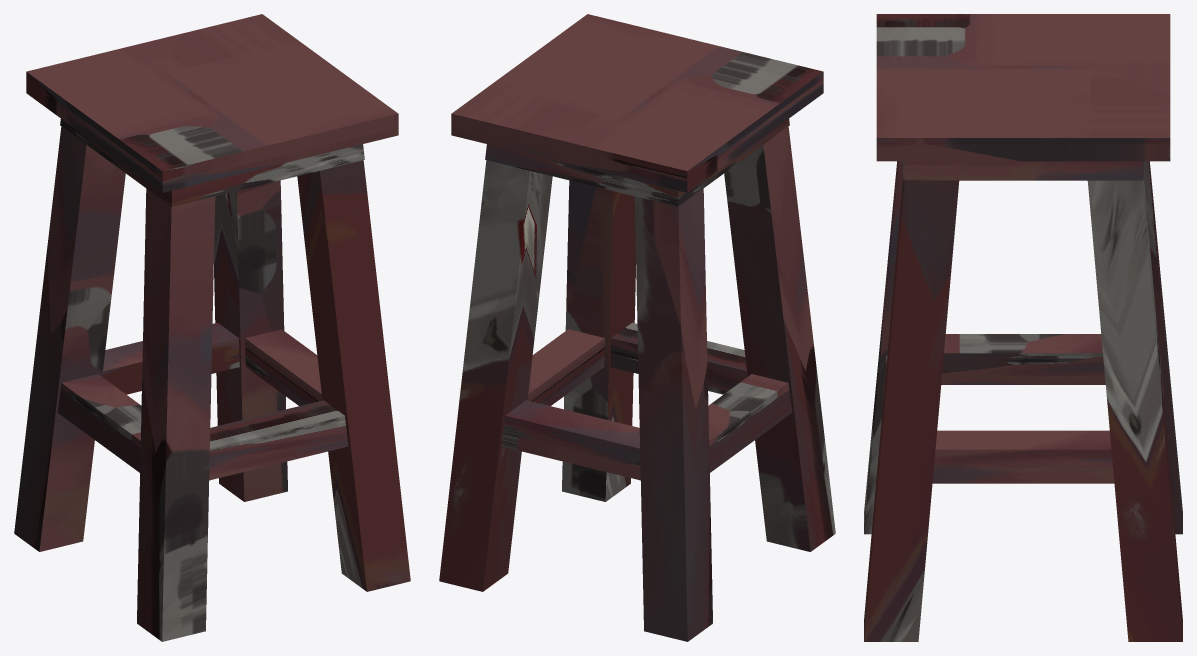
File: stool.fbx
The picture shows the model from 3 angles, left to right: view 1: azimuth 30°, elevation 25°; view 2: azimuth 150°, elevation 25°; view 3: azimuth 270°, elevation 25°; orthographic projection. The views are drawn at different scales.
Parts seen in each view (by area): view 1: stool; view 2: stool; view 3: stool.
Part boxes in pixels (x1,y1,x2,y2): stool: (14, 14, 410, 641); stool: (439, 14, 835, 641); stool: (864, 14, 1182, 641).
Size of the model in its own units: 211 by 377 by 217.
